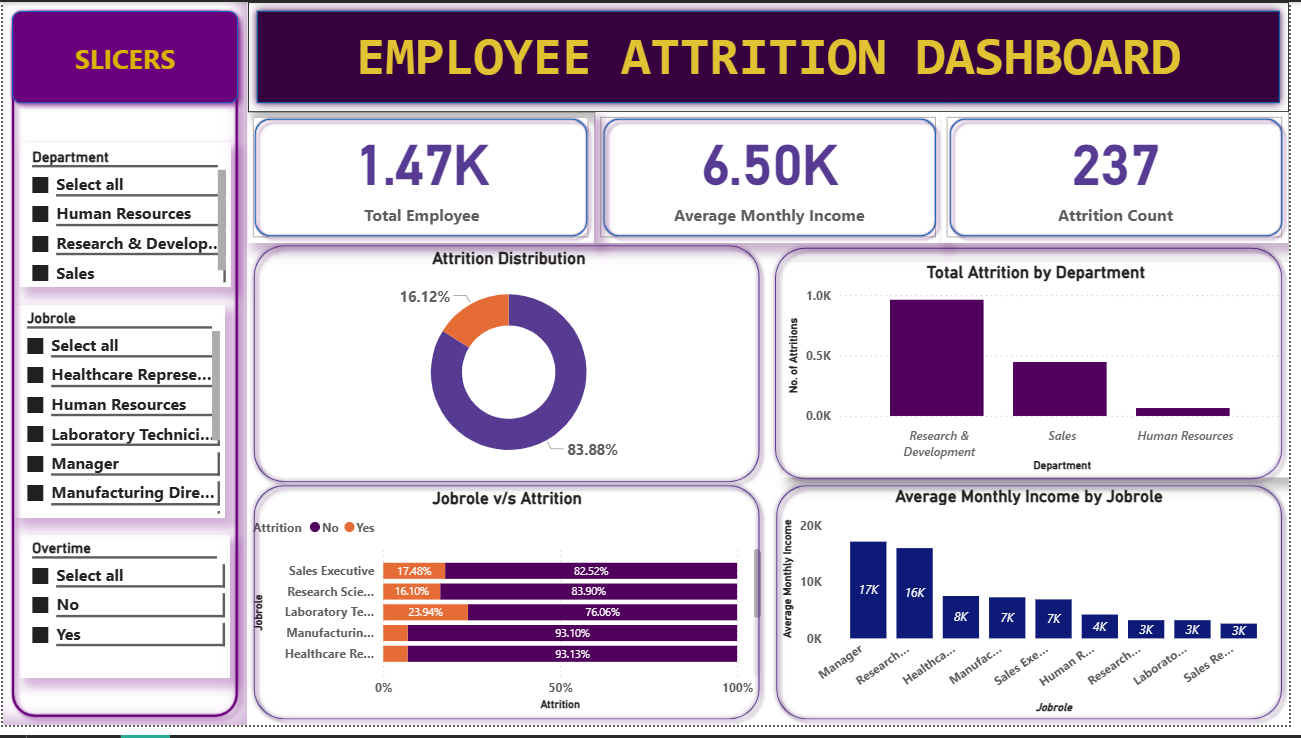

The dashboard page shown, as its layout file describes it:
{"tool":"powerbi","page":{"name":"Page 1","canvas":[1280,720],"ordinal":0},"visuals":[{"type":"donutChart","title":"Attrition Distribution","fields":{"Category":["public emp_attrition.attrition"],"Y":["CountNonNull(public emp_attrition.attrition)"]},"box":[260.7,245.6,484.4,227.8],"z":0},{"type":"clusteredColumnChart","title":"Total Attrition by Department","fields":{"Category":["public emp_attrition.department"],"Y":["CountNonNull(public emp_attrition.attrition)"]},"box":[776.7,259.3,503.6,214.1],"z":1000},{"type":"shape","title":"EMPLOYEE ATTRITION DASHBOARD","box":[244.3,0,1036,109.8],"z":2000},{"type":"shape","box":[242.9,234.6,517.3,249.7],"z":3000},{"type":"shape","box":[761.6,237.4,518.7,244.3],"z":4000},{"type":"cardVisual","fields":{"Data":["CountNonNull(public emp_attrition.employee_id)"]},"box":[244.3,109.8,344.4,130.4],"z":5000},{"type":"cardVisual","fields":{"Data":["Avg(public emp_attrition.monthly_income)"]},"box":[590.1,109.8,344.4,130.4],"z":6000},{"type":"cardVisual","fields":{"Data":["public emp_attrition.Attrition Count"]},"box":[934.5,109.8,344.4,130.4],"z":7000},{"type":"shape","box":[244.3,109.8,344.4,130.4],"z":8000},{"type":"shape","box":[591.4,109.8,344.4,130.4],"z":9000},{"type":"shape","box":[935.9,109.8,344.4,130.4],"z":10000},{"type":"hundredPercentStackedBarChart","title":"Jobrole v/s Attrition","fields":{"Category":["public emp_attrition.jobrole"],"Y":["CountNonNull(public emp_attrition.attrition)"],"Series":["public emp_attrition.attrition"]},"box":[244.3,484.4,516,226.4],"z":11000},{"type":"shape","box":[242.9,473.4,517.3,247],"z":12000},{"type":"shape","box":[763,473.4,517.3,247],"z":13000},{"type":"clusteredColumnChart","fields":{"Category":["public emp_attrition.jobrole"],"Y":["Avg(public emp_attrition.monthly_income)"]},"box":[769.8,481.6,502.2,231.9],"z":14000},{"type":"slicer","fields":{"Values":["public emp_attrition.department"]},"box":[16.2,140.6,210.2,143.1],"z":14001},{"type":"shape","box":[0,0,242.6,720.3],"z":14002},{"type":"slicer","fields":{"Values":["public emp_attrition.jobrole"]},"box":[11,300.5,209.9,212.7],"z":14003},{"type":"slicer","fields":{"Values":["public emp_attrition.overtime"]},"box":[16.5,529.7,209.9,142.7],"z":14004},{"type":"shape","box":[0,0,242.9,109.8],"z":14005}]}

Visuals, with their boxes in screenshot pixels (x1, y1, x2, y2), scaled from the page's 1280x720 canvas onto the 1301x738 screenshot:
"Attrition Distribution" donutChart: <bbox>265, 252, 757, 485</bbox>
"Total Attrition by Department" clusteredColumnChart: <bbox>789, 266, 1300, 485</bbox>
"EMPLOYEE ATTRITION DASHBOARD" shape: <bbox>248, 0, 1300, 113</bbox>
shape: <bbox>247, 240, 773, 496</bbox>
shape: <bbox>774, 243, 1300, 494</bbox>
cardVisual - CountNonNull(public emp_attrition.employee_id): <bbox>248, 113, 598, 246</bbox>
cardVisual - Avg(public emp_attrition.monthly_income): <bbox>600, 113, 950, 246</bbox>
cardVisual - public emp_attrition.Attrition Count: <bbox>950, 113, 1300, 246</bbox>
shape: <bbox>248, 113, 598, 246</bbox>
shape: <bbox>601, 113, 951, 246</bbox>
shape: <bbox>951, 113, 1300, 246</bbox>
"Jobrole v/s Attrition" hundredPercentStackedBarChart: <bbox>248, 497, 773, 729</bbox>
shape: <bbox>247, 485, 773, 737</bbox>
shape: <bbox>776, 485, 1300, 737</bbox>
clusteredColumnChart - public emp_attrition.jobrole x Avg(public emp_attrition.monthly_income): <bbox>782, 494, 1293, 731</bbox>
slicer - public emp_attrition.department: <bbox>16, 144, 230, 291</bbox>
shape: <bbox>0, 0, 247, 737</bbox>
slicer - public emp_attrition.jobrole: <bbox>11, 308, 225, 526</bbox>
slicer - public emp_attrition.overtime: <bbox>17, 543, 230, 689</bbox>
shape: <bbox>0, 0, 247, 113</bbox>
